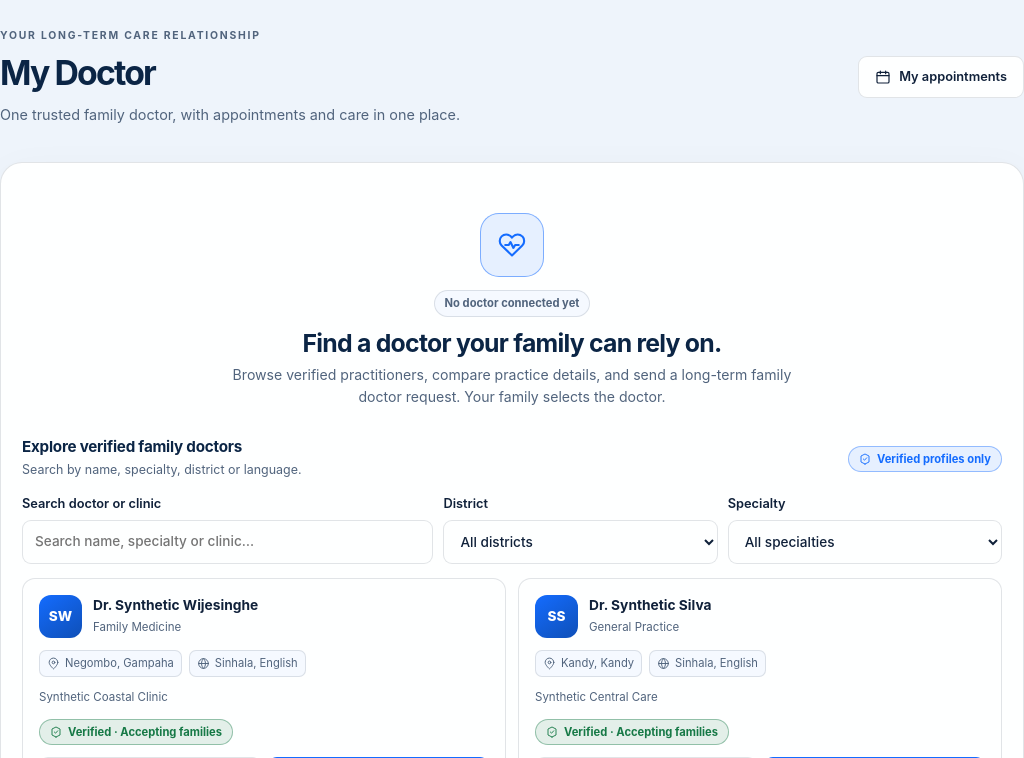
Test: MyDoctor relationship states › lets a family head with no doctor filter the directory and send a confirmed request
The width and height of the screenshot is (1024, 758).
Check: the heading "Find a doctor your family can rely on." is shown, box x1=302 y1=329 x2=722 y2=358
Check: the heading "Dr. Synthetic Silva" is shown, box x1=589 y1=596 x2=712 y2=617
Select "Gampaha" in the dropdown labelled "District" at (581, 542), box x1=443 y1=520 x2=718 y2=564
(page scrolled)
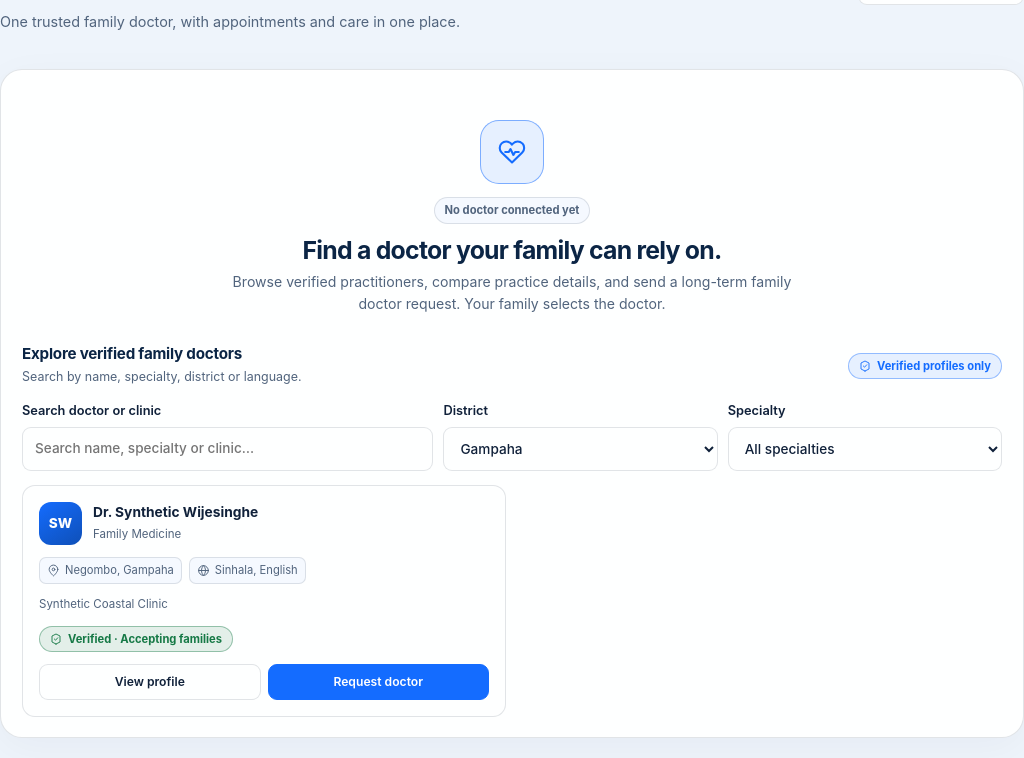
Check: the heading "Dr. Synthetic Silva" is gone
Click the button with aria-label "Request Dr. Synthetic Wijesinghe".
click(378, 682)  # box x1=268 y1=664 x2=489 y2=700
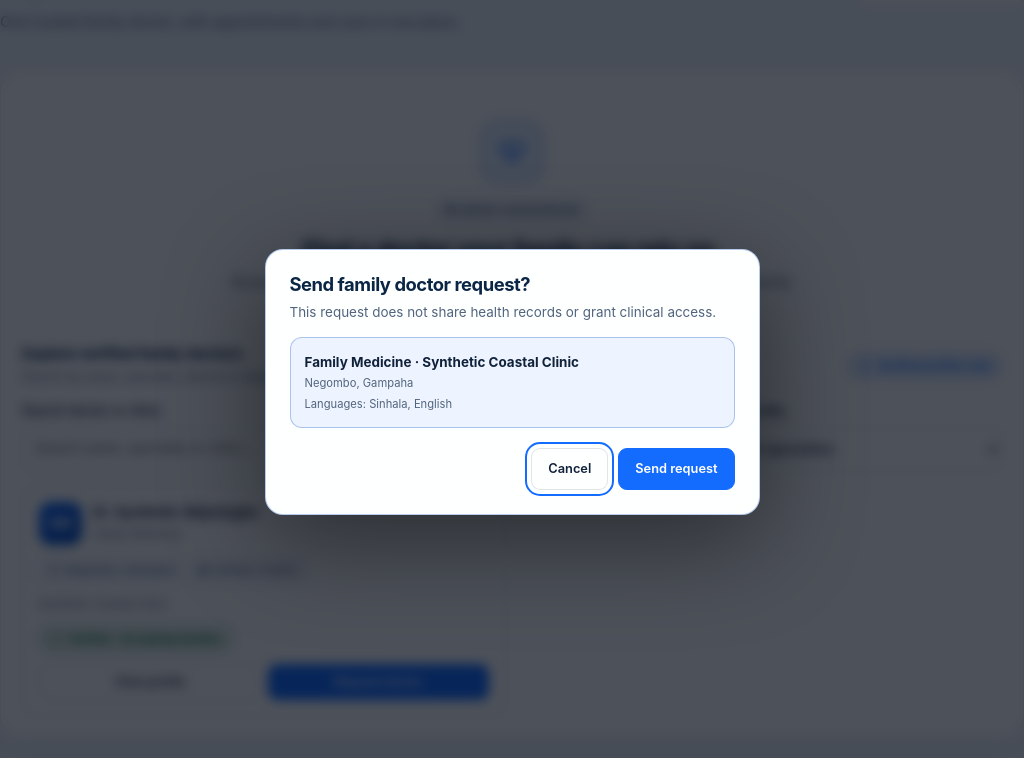
Click the button "Send request".
click(676, 469)  # box x1=618 y1=448 x2=734 y2=490
(page scrolled)
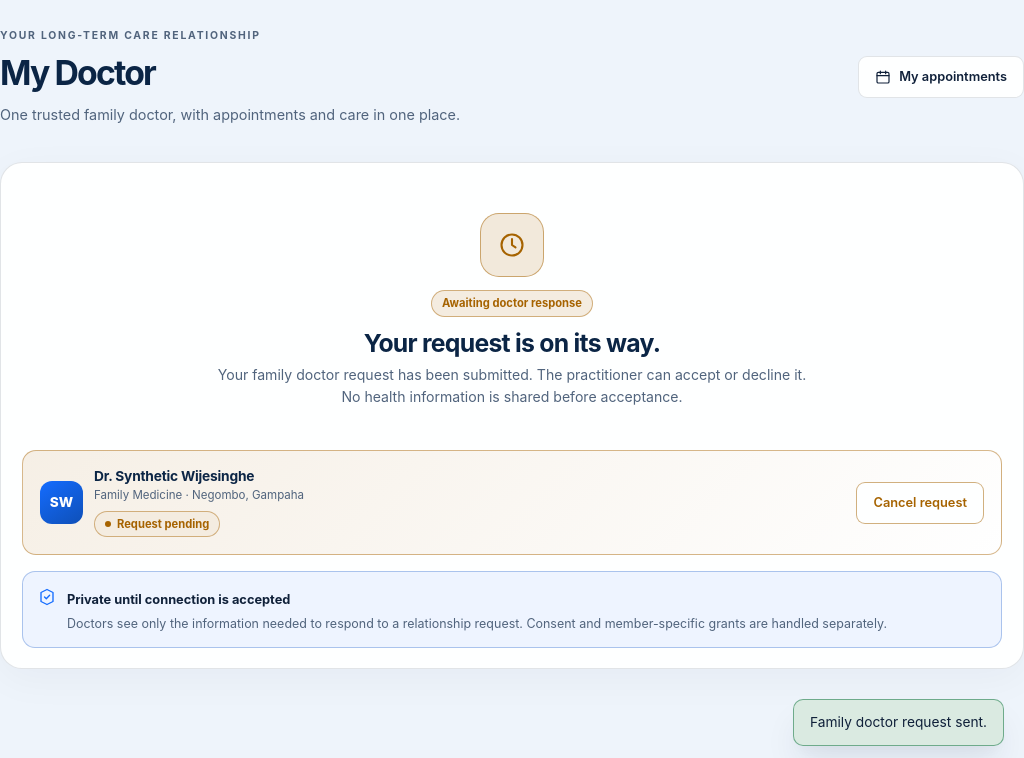
Check: the heading "Your request is on its way." is shown, box x1=364 y1=329 x2=660 y2=358
